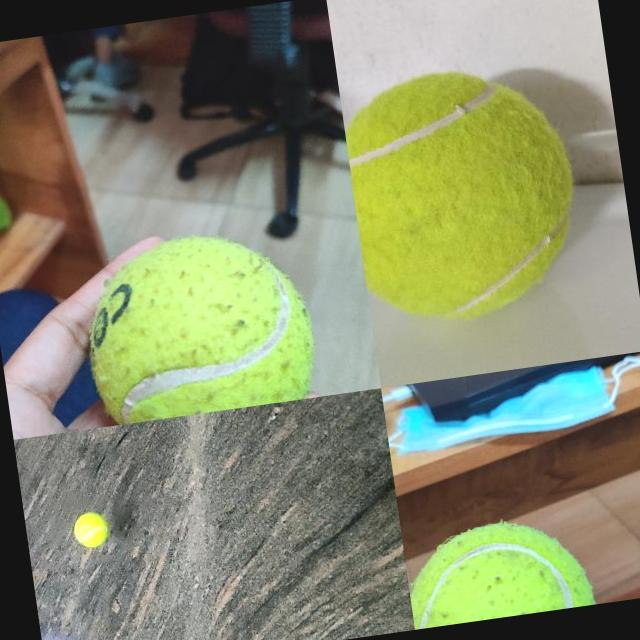tennis-ball: (338, 53, 596, 335), (75, 220, 322, 427), (402, 509, 597, 629), (72, 510, 112, 550)
